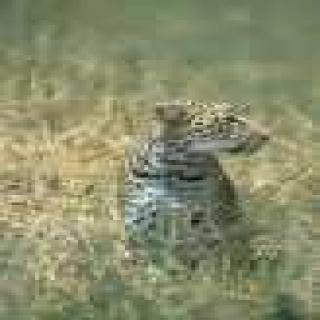Leopard: (124, 96, 311, 301)
